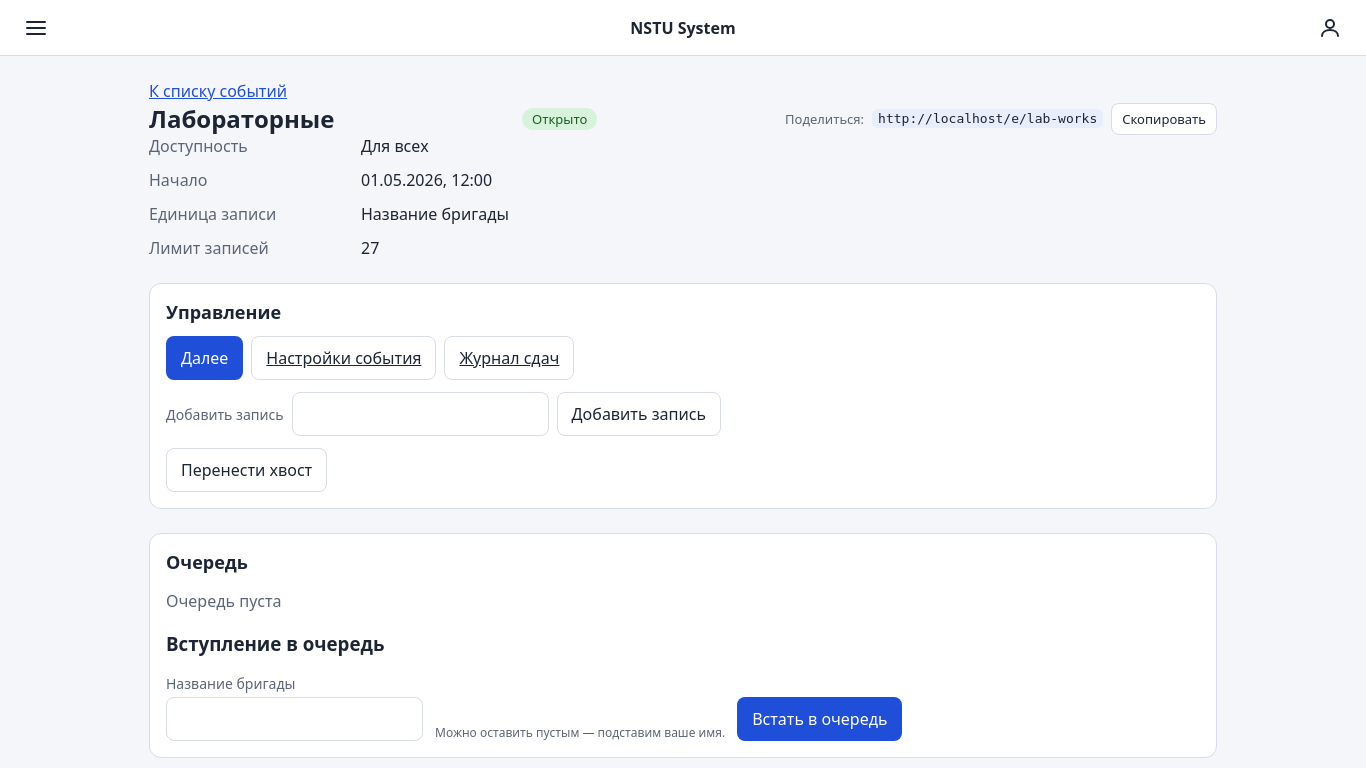
it: страница события /e/:slug › переход «Журнал сдач» открывает экран журнала
The image size is (1366, 768).
Click the link "Журнал сдач".
click(509, 358)  # box [444,336,574,380]
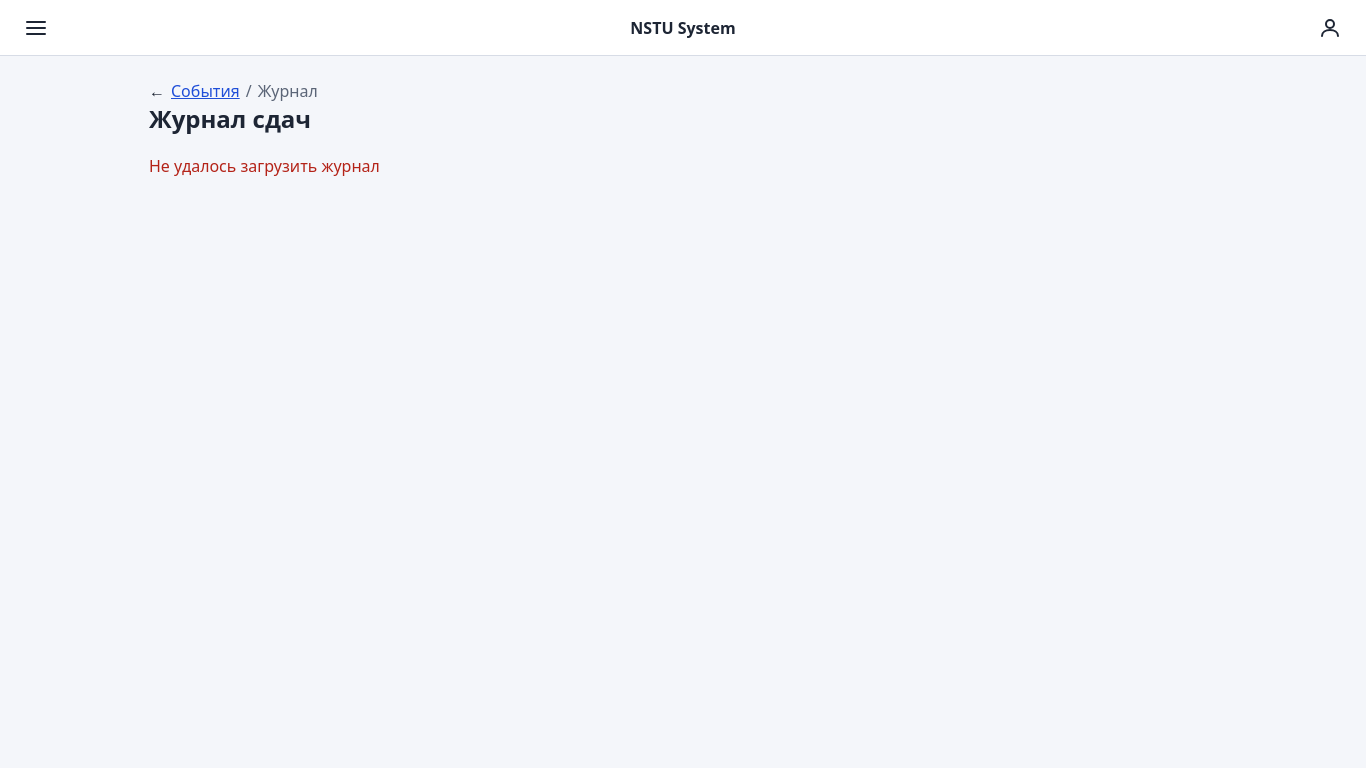
Now the heading "Журнал сдач" is shown, box [149,102,311,135]
